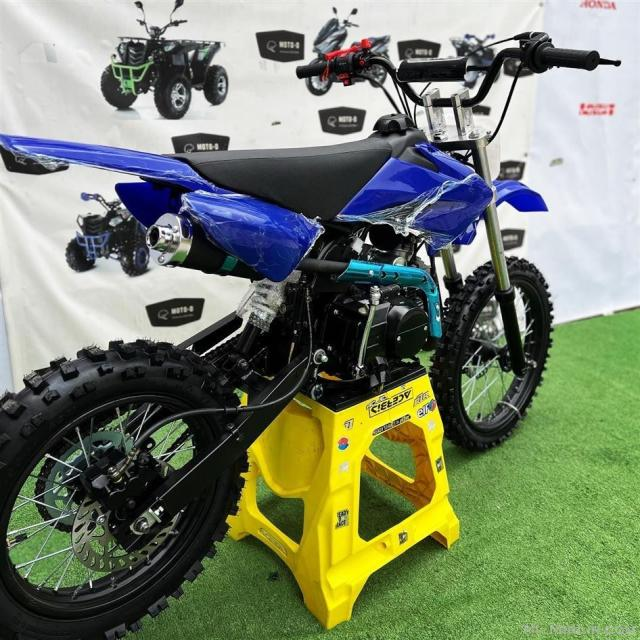Motorcycle: (0, 113, 553, 640)
